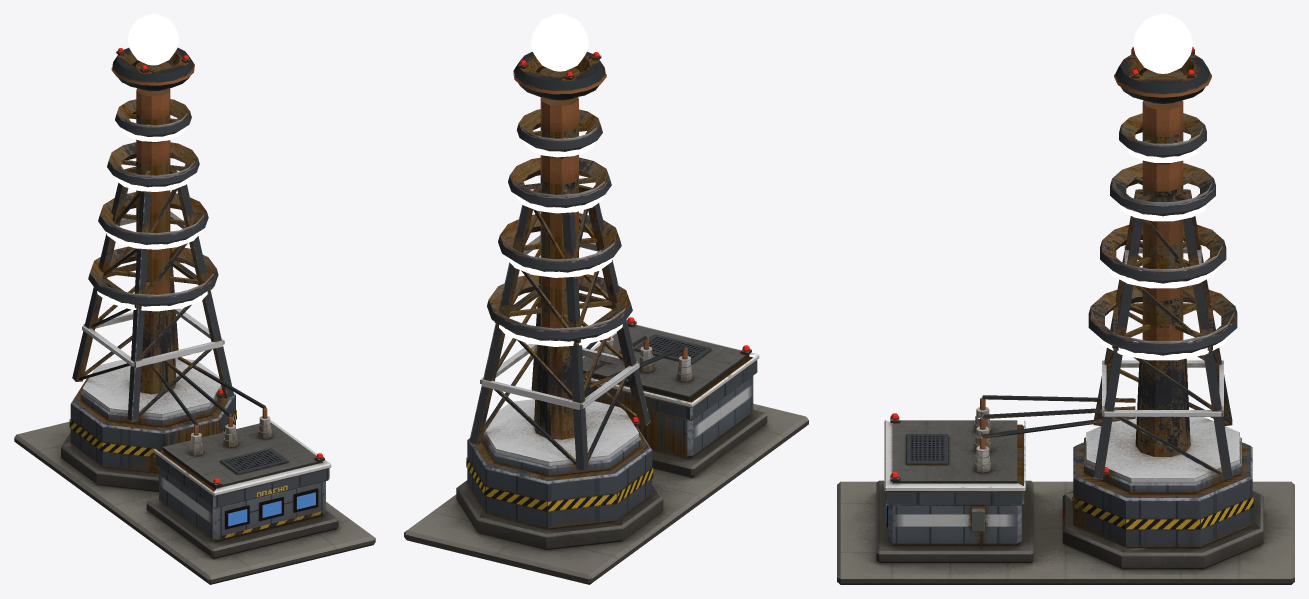
The model's file is tsla.soviet.glb.
The picture shows the model from 3 angles, left to right: view 1: azimuth 30°, elevation 25°; view 2: azimuth 150°, elevation 25°; view 3: azimuth 270°, elevation 25°; orthographic projection. The views are drawn at different scales.
Parts seen in each view (by area): view 1: root_mesh; view 2: root_mesh; view 3: root_mesh.
Boxes of the visible parts, x1,y1,x2,y2 form: root_mesh: [14, 14, 375, 584]; root_mesh: [404, 14, 808, 584]; root_mesh: [837, 14, 1294, 584].
Size of the model in its own units: 0.98 by 2.49 by 1.98.
Materials: 3 (1 with a texture image).
